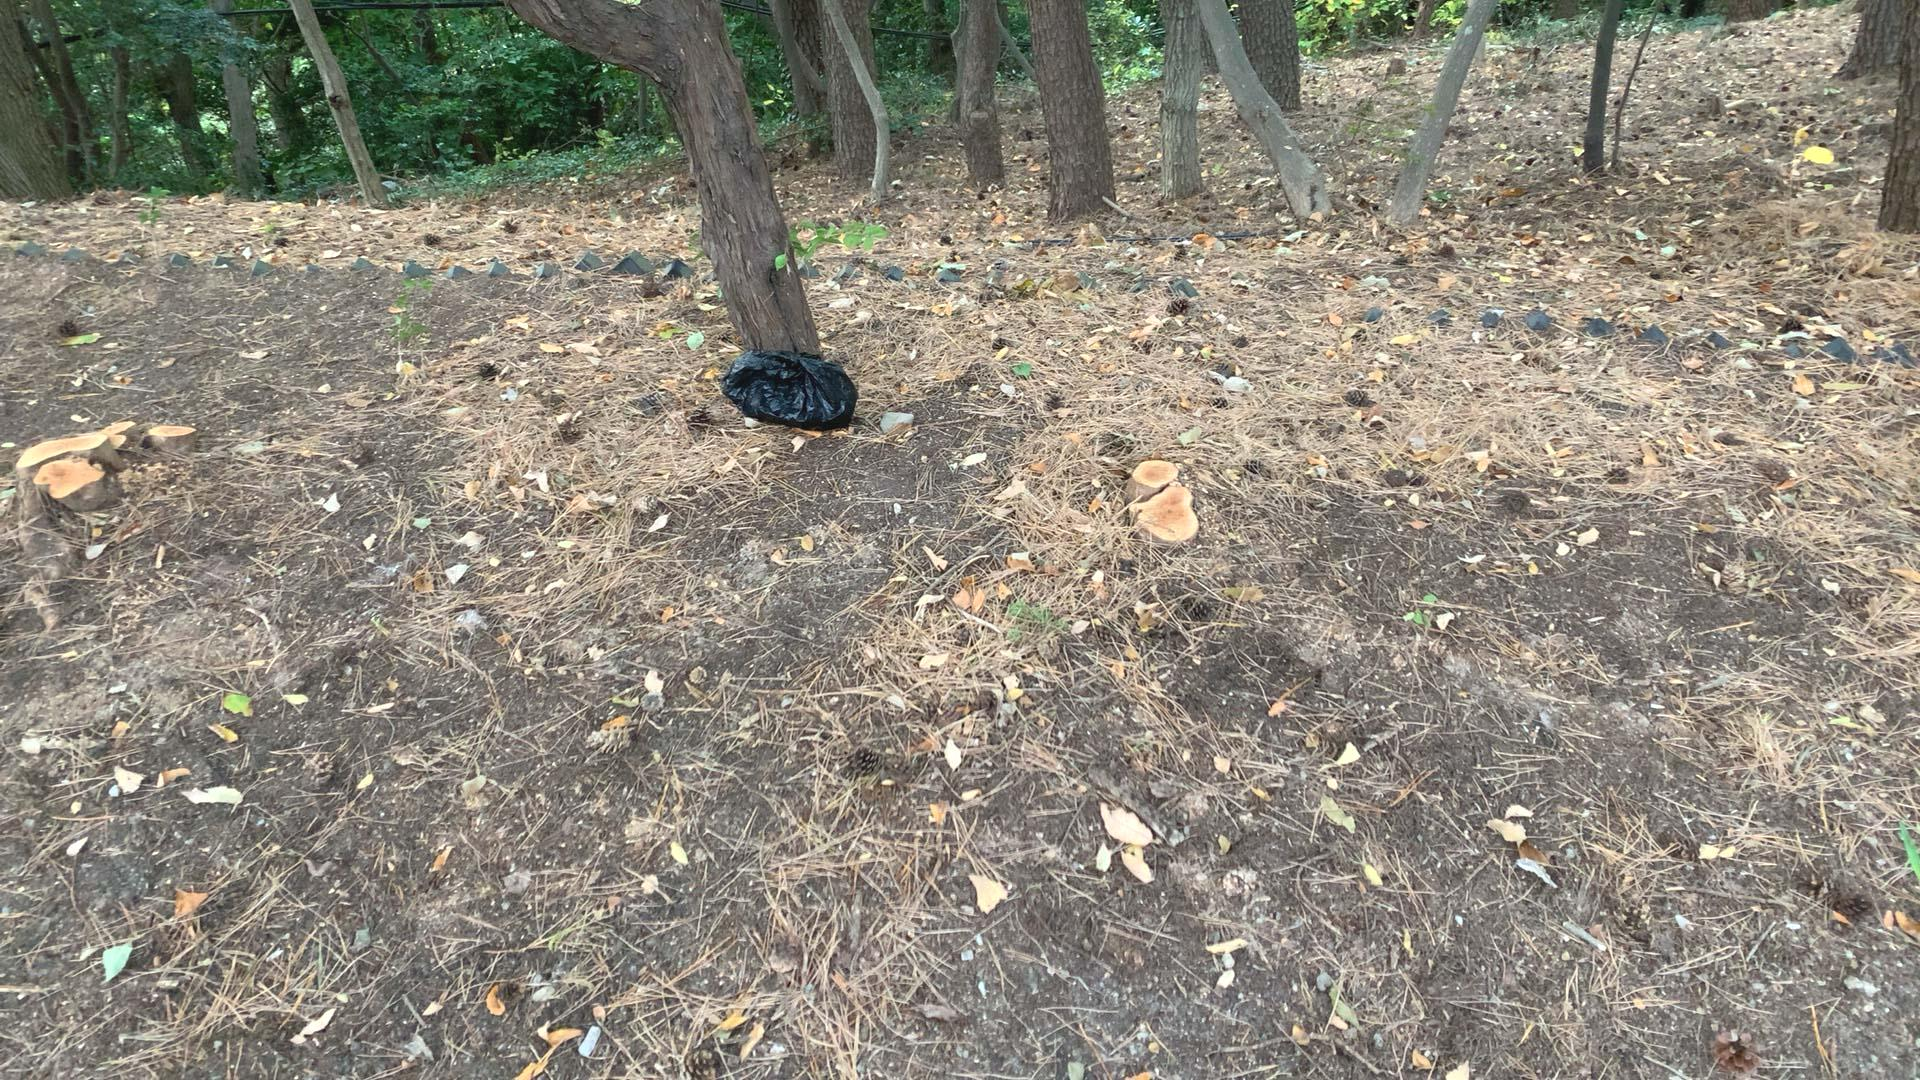black_bag: (713, 340, 861, 438)
